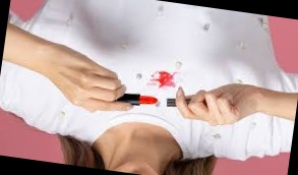lipstick: (151, 67, 178, 89)
